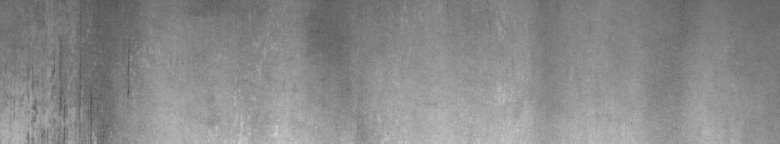ka: (23, 16, 144, 136)
